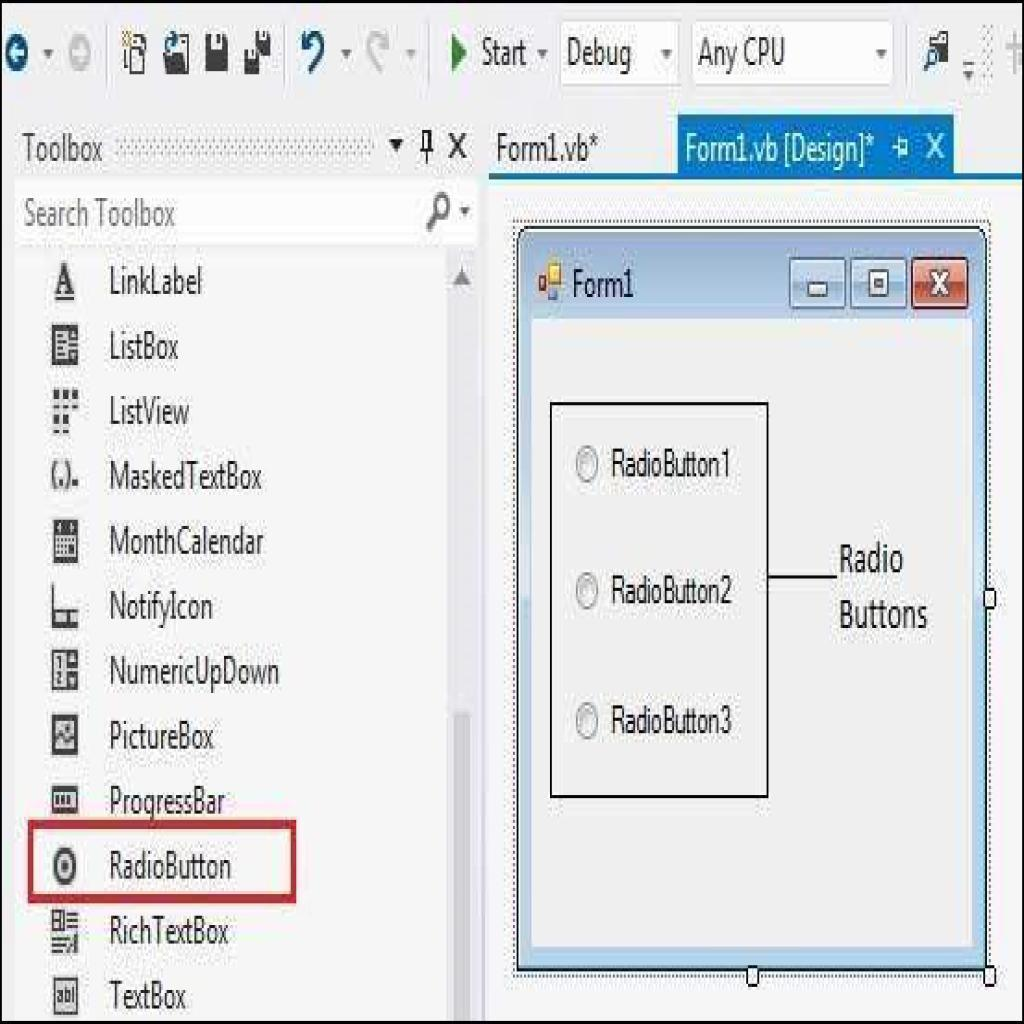dropdown: (695, 20, 893, 86), (561, 22, 681, 87), (423, 181, 479, 245), (479, 33, 551, 72), (386, 132, 409, 156), (403, 46, 422, 62), (340, 47, 357, 63), (43, 46, 57, 62)
icon: (791, 258, 846, 308), (852, 258, 907, 308), (913, 259, 969, 307), (46, 708, 88, 763), (47, 583, 83, 635), (48, 648, 87, 696), (50, 387, 84, 440), (49, 908, 84, 958), (49, 454, 86, 498), (118, 29, 150, 78), (48, 781, 89, 818), (243, 30, 275, 77), (202, 30, 233, 78), (51, 323, 82, 370), (300, 29, 329, 78), (366, 28, 394, 78), (53, 973, 84, 1018), (163, 32, 193, 78), (924, 31, 955, 75), (52, 519, 80, 567), (68, 32, 96, 76), (3, 34, 33, 75), (449, 32, 472, 79), (1003, 27, 1024, 78), (52, 848, 78, 888), (54, 261, 80, 300), (415, 125, 439, 166), (927, 132, 948, 162), (892, 135, 911, 163), (449, 133, 468, 160)
input: (14, 180, 424, 243)
label: (685, 127, 881, 170), (108, 651, 281, 696), (111, 524, 272, 564), (106, 456, 266, 495), (612, 444, 735, 488), (110, 910, 236, 952), (493, 124, 601, 173), (107, 847, 239, 887), (609, 700, 736, 739), (111, 716, 221, 760), (612, 572, 736, 611), (110, 588, 221, 631), (109, 782, 227, 820), (107, 975, 194, 1017), (18, 127, 109, 167), (109, 265, 208, 299), (106, 326, 186, 367), (108, 394, 197, 430)
radio: (575, 443, 601, 486), (575, 572, 601, 612), (576, 702, 602, 740)
